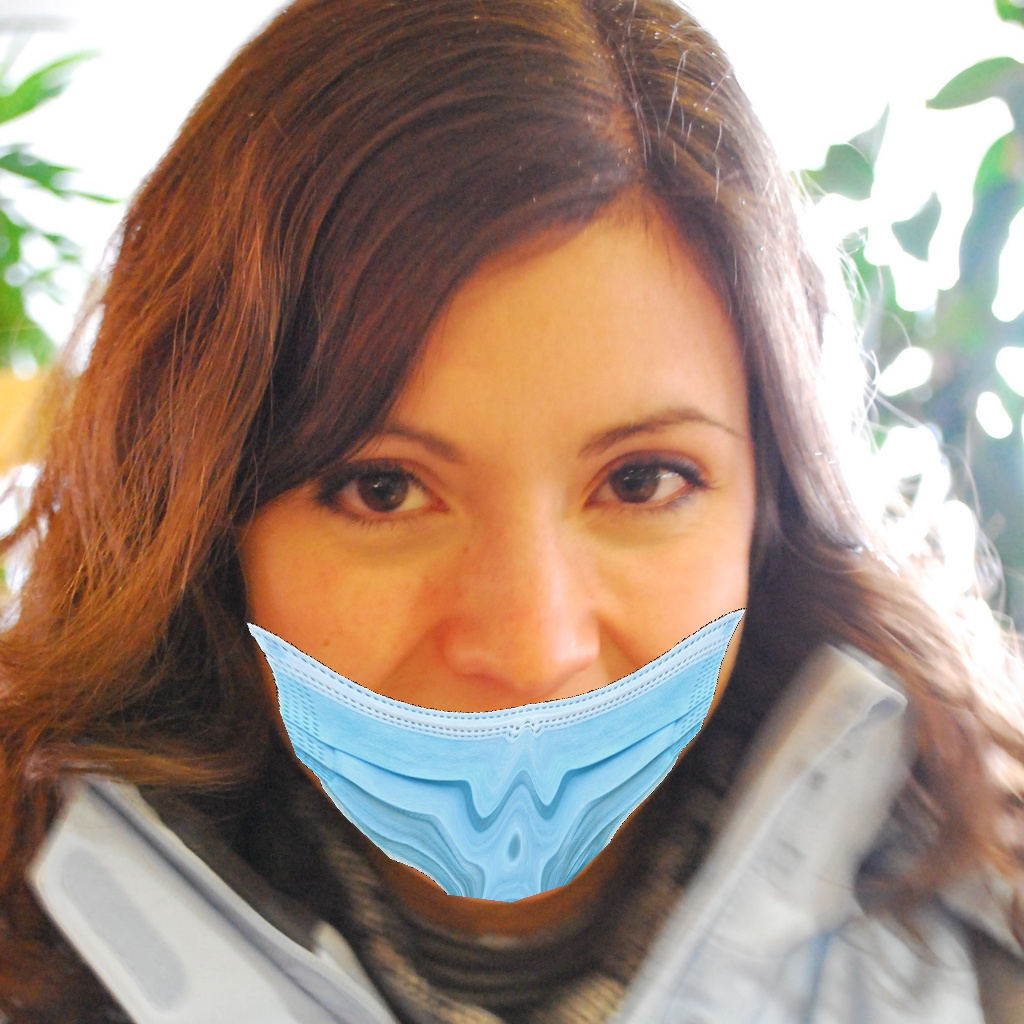mascarilla_mal_puesta: (192, 335, 847, 908)
